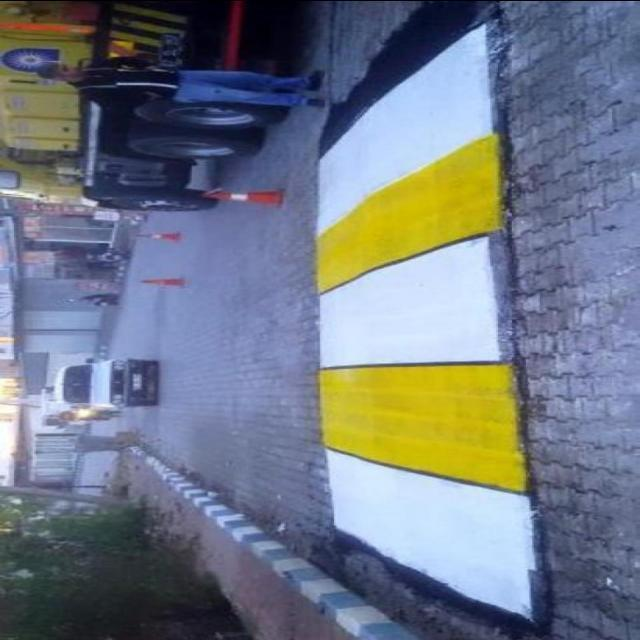speedbreaker: (301, 12, 560, 636)
